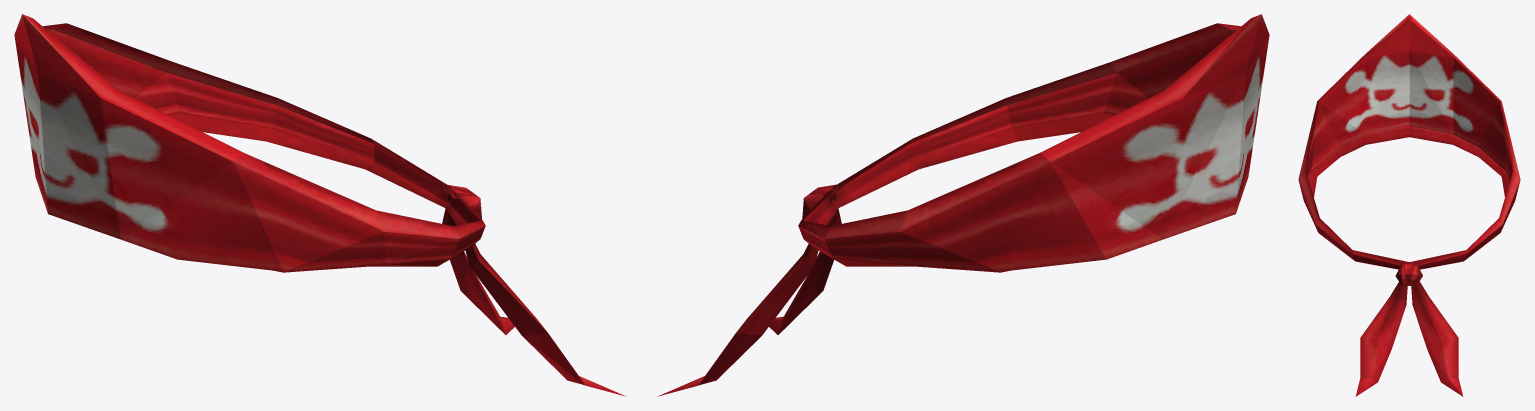
File: Monkey_pirateBandana.obj
The picture shows the model from 3 angles, left to right: view 1: azimuth 30°, elevation 25°; view 2: azimuth 150°, elevation 25°; view 3: azimuth 270°, elevation 25°; orthographic projection. The views are drawn at different scales.
Parts seen in each view (by area): view 1: Monkey_pirateBandana_tri; view 2: Monkey_pirateBandana_tri; view 3: Monkey_pirateBandana_tri.
Boxes of the visible parts, x1,y1,x2,y2 form: Monkey_pirateBandana_tri: (14,14,625,396); Monkey_pirateBandana_tri: (658,14,1269,396); Monkey_pirateBandana_tri: (1298,14,1520,396).
Size of the model in its own units: 0.3464 by 0.287 by 0.2358.
Materials: 1 (1 with a texture image).
